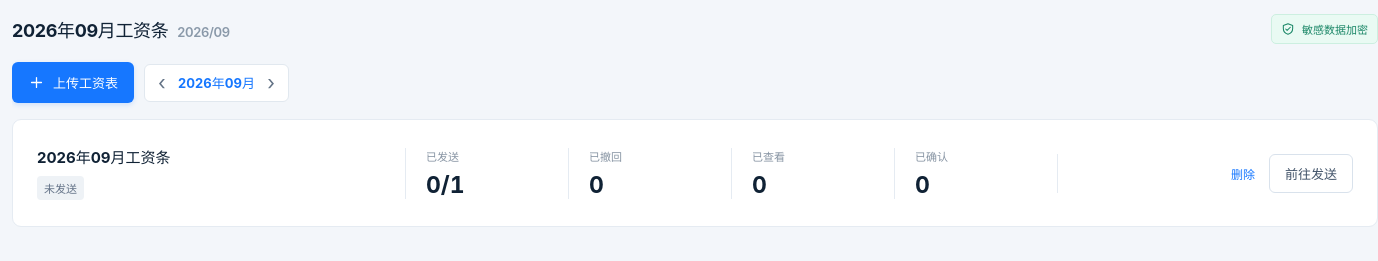
Test case: salary management › uses the server edit capability without duplicating delivery status rules
The width and height of the screenshot is (1378, 261).
Click the button "前往发送" at (1311, 173), box [1269,154,1353,192]
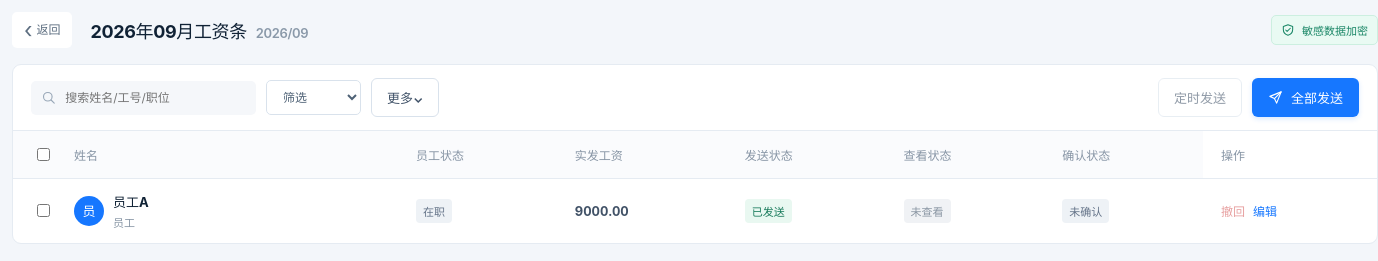
Expected: the button "编辑" is shown, [1253,200,1277,221]
